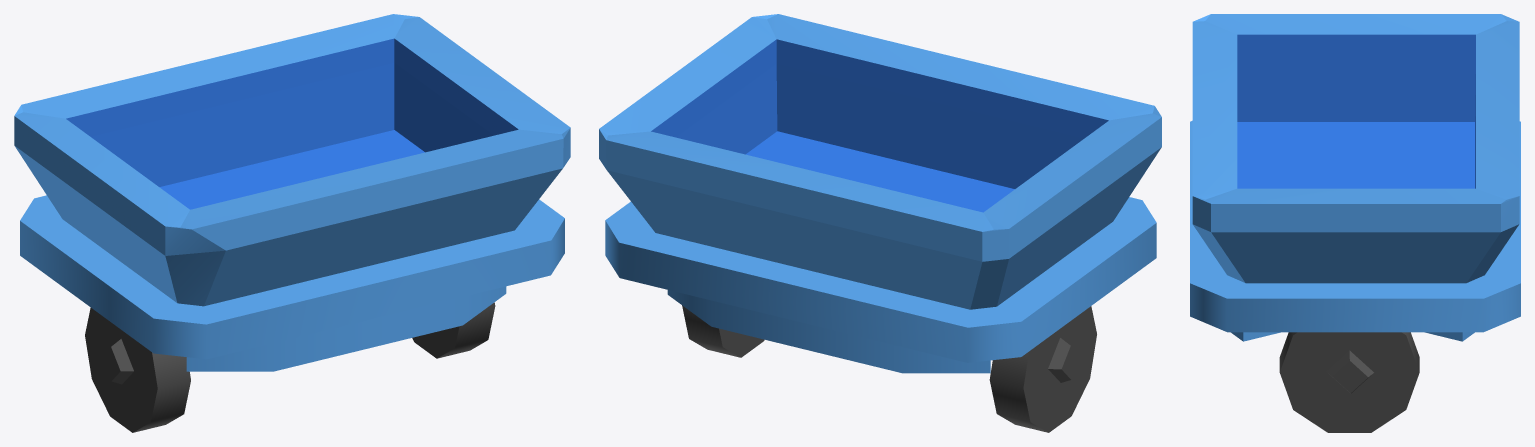
Rendered from Wagon.fbx.
The picture shows the model from 3 angles, left to right: view 1: azimuth 30°, elevation 25°; view 2: azimuth 150°, elevation 25°; view 3: azimuth 270°, elevation 25°; orthographic projection. The views are drawn at different scales.
Visible parts, largest first — view 1: Wagon, wheels_front__1_, wheels_front; view 2: Wagon, wheels_front__1_, wheels_front; view 3: Wagon, wheels_front.
Part boxes in pixels (x1,y1,x2,y2): Wagon: (14, 14, 570, 371); wheels_front__1_: (85, 307, 190, 432); wheels_front: (412, 302, 495, 358); Wagon: (599, 14, 1161, 373); wheels_front__1_: (989, 306, 1096, 432); wheels_front: (682, 305, 764, 357); Wagon: (1190, 14, 1520, 341); wheels_front: (1279, 332, 1419, 432).
Bounding box in the file's own units: 246 × 148 × 179.
